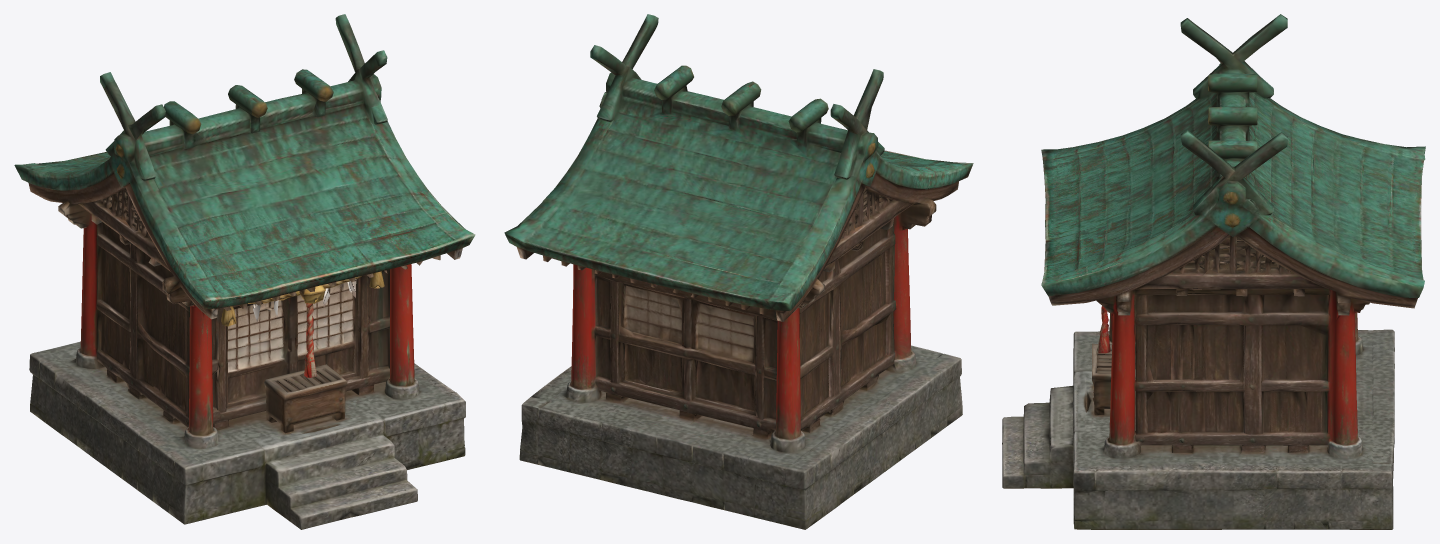
Rendered from shrine.glb.
3 views of the same model, side by side, from view 1: azimuth 30°, elevation 25°; view 2: azimuth 150°, elevation 25°; view 3: azimuth 270°, elevation 25° (orthographic). The views are drawn at different scales.
Visible parts, largest first — view 1: shinto shrine 3d model; view 2: shinto shrine 3d model; view 3: shinto shrine 3d model.
Boxes of the visible parts, left/top/right/bottom form: shinto shrine 3d model: left=14, top=14, right=475, bottom=529; shinto shrine 3d model: left=504, top=14, right=973, bottom=529; shinto shrine 3d model: left=1002, top=14, right=1425, bottom=529.
Size of the model in its own units: 3.25 by 4.1 by 4.09.
1 material, 1 textured.
